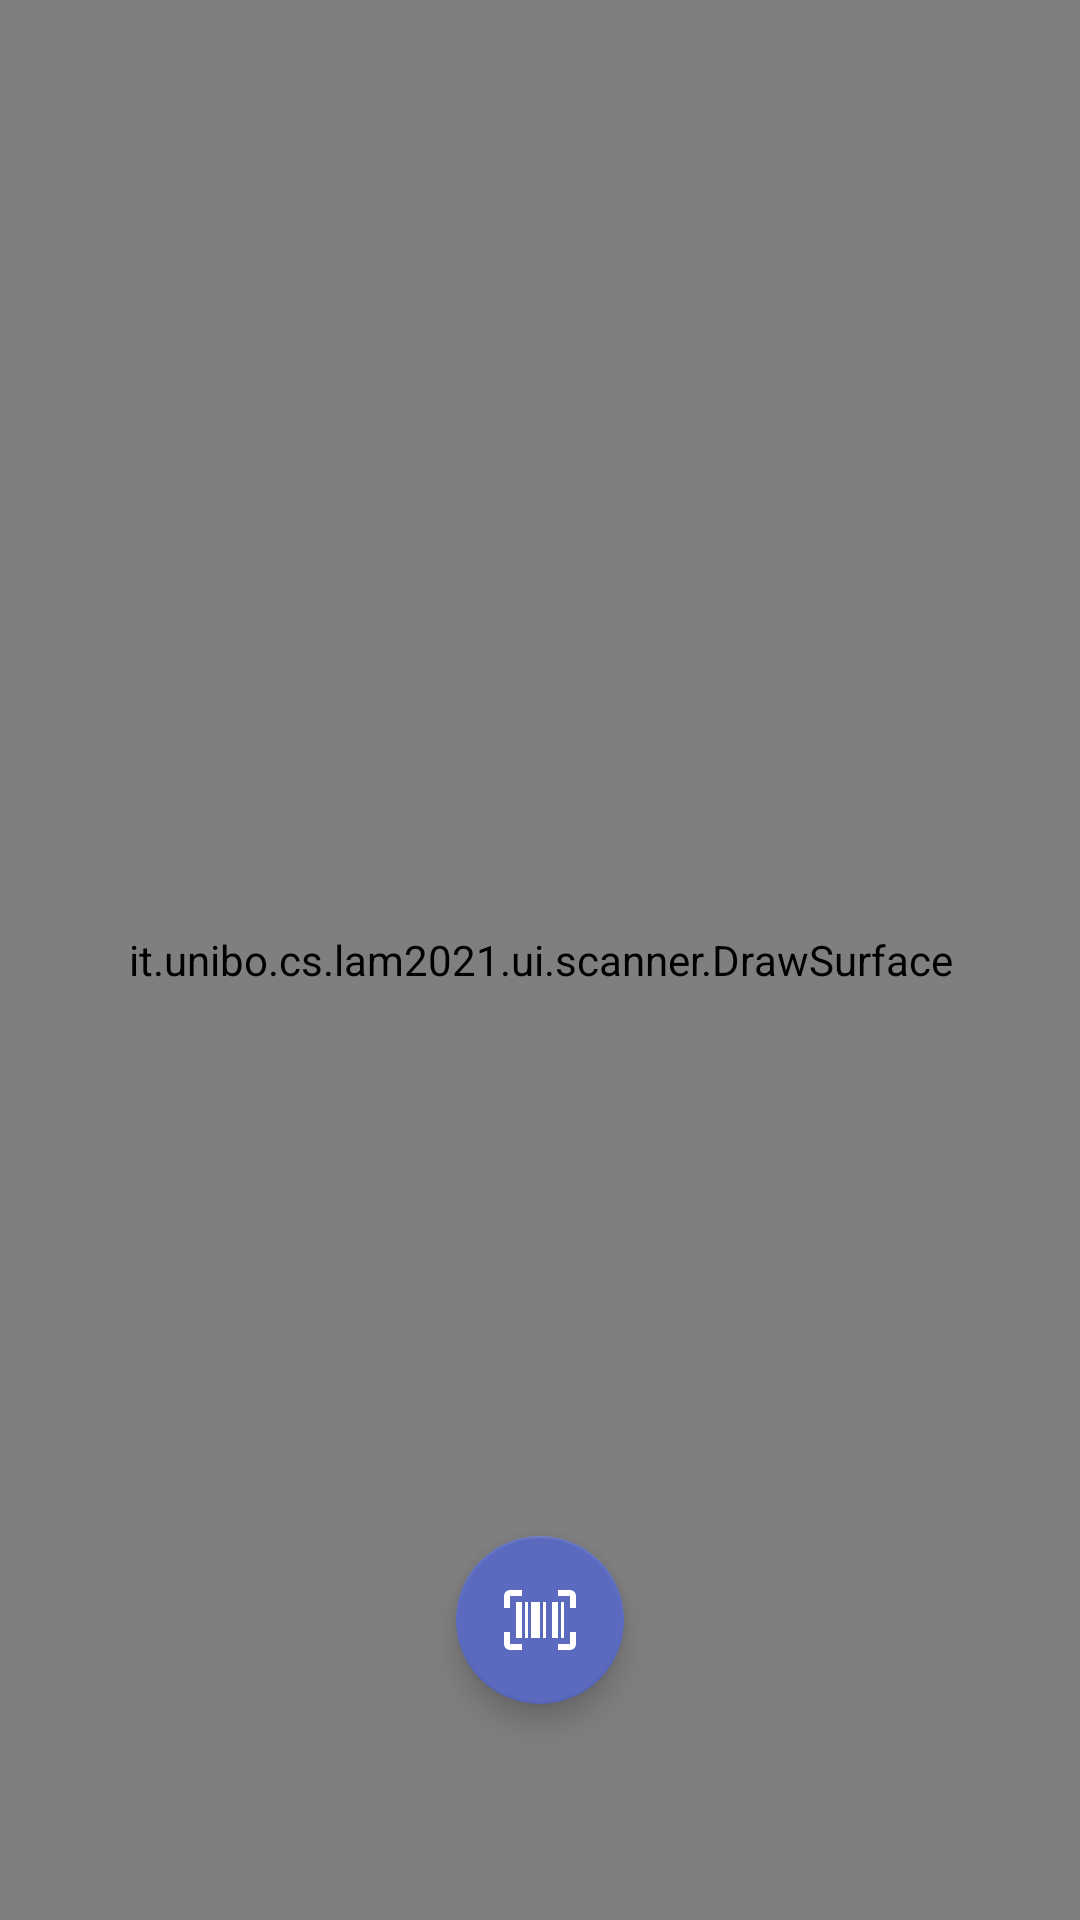

Named icons in this screenshot (1080px x 1920px) and their bounding boxes, (x1, y1, x2, y2):
Scan product: (456, 1536, 624, 1704)
